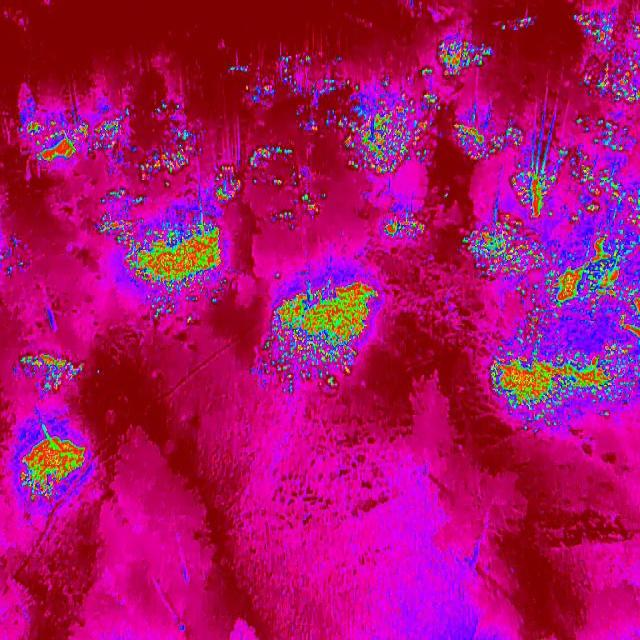fire: (264, 38, 529, 173), (468, 128, 638, 282), (98, 178, 231, 318), (486, 324, 640, 430), (15, 106, 200, 188), (262, 281, 382, 397), (210, 146, 326, 238), (572, 0, 640, 130), (16, 432, 91, 502), (516, 284, 640, 324), (12, 351, 84, 393), (377, 207, 431, 244)
